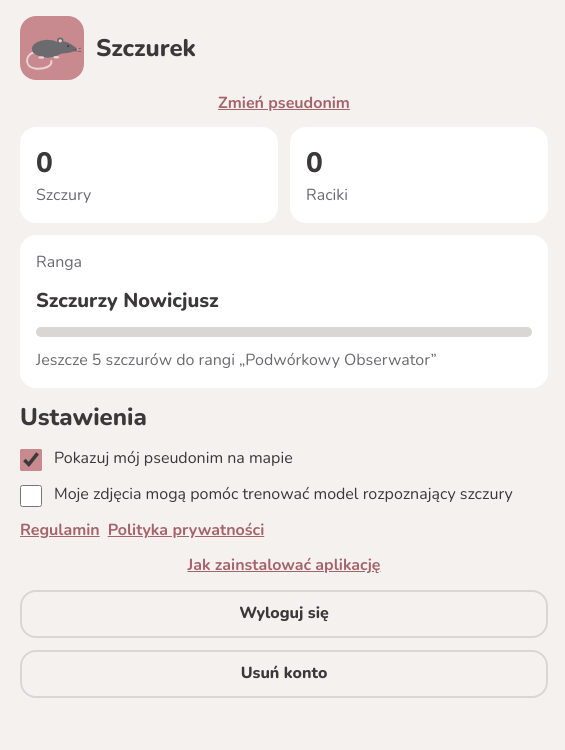
informuje o nieudanym zapisie
Click the checkbox labelled "Moje zdjęcia mogą pomóc trenować model rozpoznający szczury": (31, 496) x1=20 y1=485 x2=42 y2=507
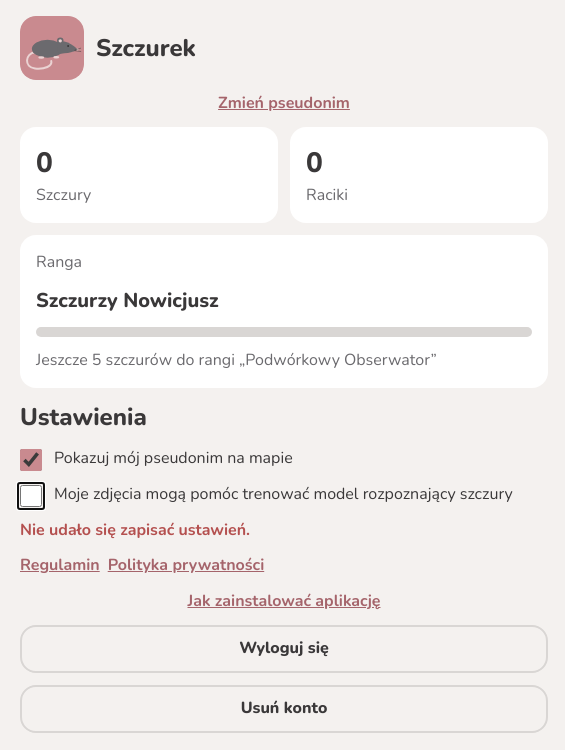
Result: the message reads "Nie udało się zapisać ustawień." at x1=20 y1=519 x2=250 y2=541
